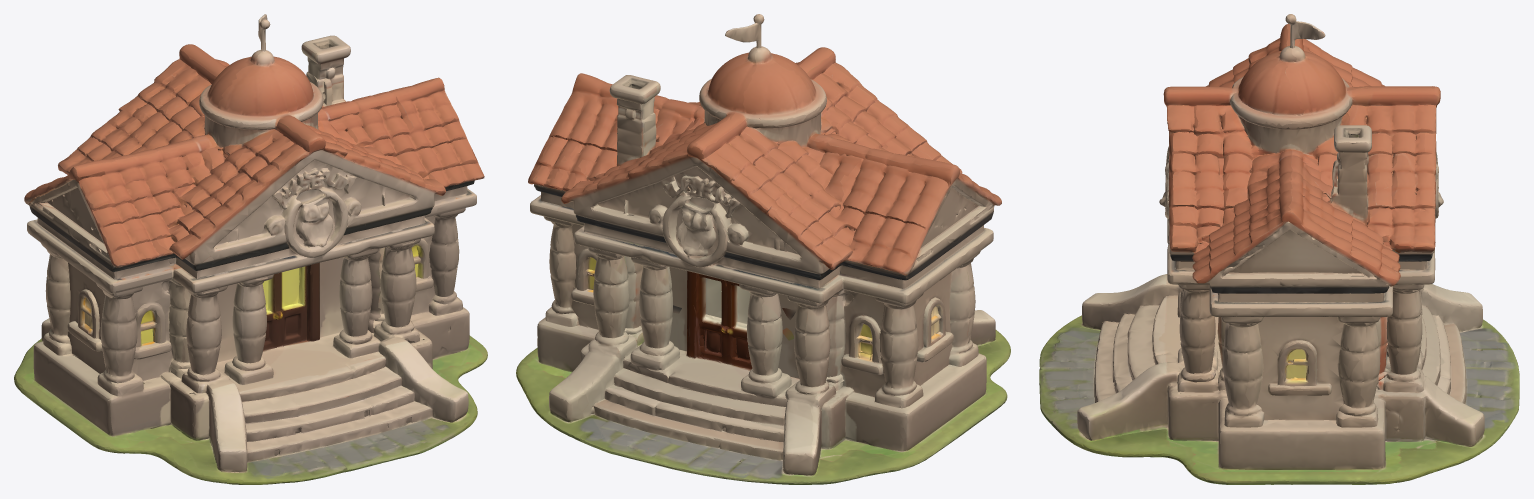
The model's file is bld_museum_01.glb.
3 renders of one model, left to right at view 1: azimuth 30°, elevation 25°; view 2: azimuth 150°, elevation 25°; view 3: azimuth 270°, elevation 25°, orthographic. The views are drawn at different scales.
Visible parts, largest first — view 1: geometry_0; view 2: geometry_0; view 3: geometry_0.
Boxes of the visible parts, bbox=[...] form: geometry_0: bbox=[14, 14, 487, 484]; geometry_0: bbox=[516, 14, 1010, 484]; geometry_0: bbox=[1039, 14, 1519, 484].
Size of the model in its own units: 0.25 by 0.2171 by 0.2498.
1 material, 1 textured.
